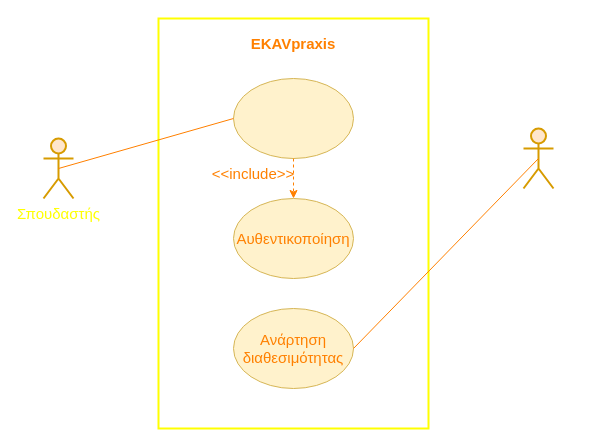
This 594x446 diagram has some shape labels left out. Here are the shapes that lost their labels. From the top down, the box of each, then its label:
(232, 78, 354, 158): Δέσμευση ασθενοφόρου
(522, 127, 554, 189): Γραμματεία
